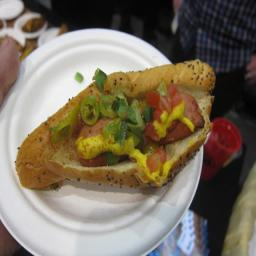hotdog: (13, 56, 220, 184)
